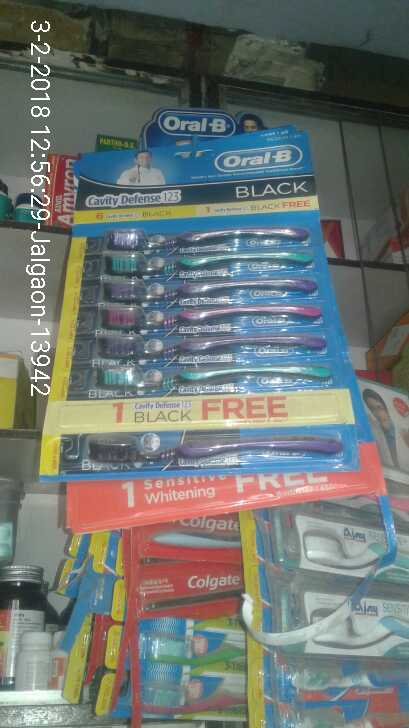oralb: (105, 228, 322, 247), (103, 256, 320, 275), (96, 281, 313, 300), (104, 310, 321, 329), (97, 334, 314, 353), (100, 371, 317, 390)
